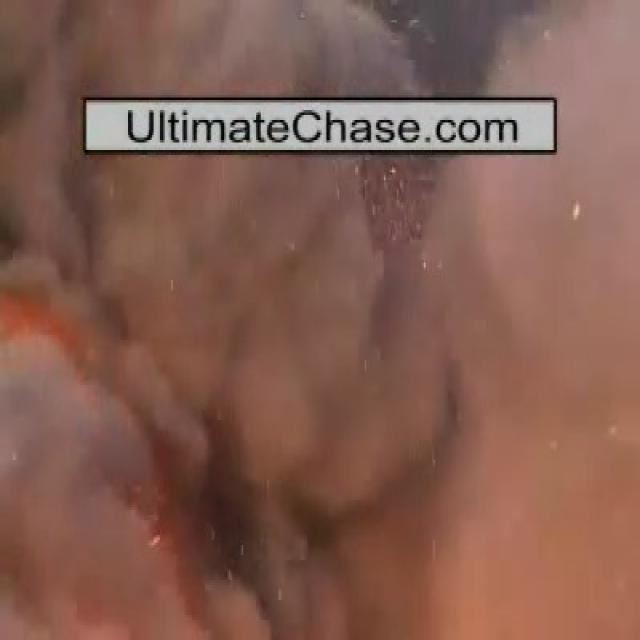smoke: (64, 158, 540, 596), (74, 3, 518, 88)
